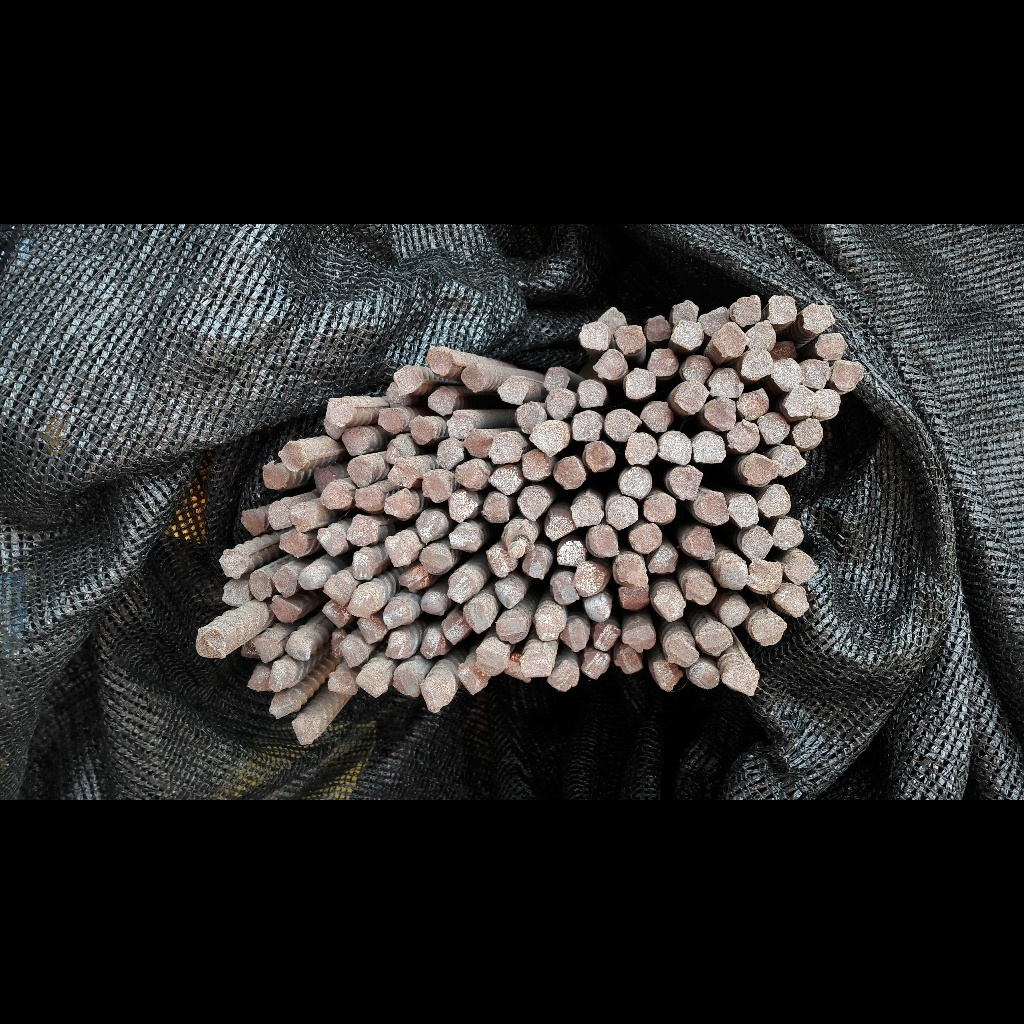dipstick: (612, 554, 650, 586), (651, 660, 689, 692), (554, 456, 587, 492), (752, 610, 786, 644), (692, 432, 727, 465), (530, 422, 566, 454), (194, 627, 228, 660), (675, 381, 708, 415), (693, 493, 728, 525), (728, 493, 760, 528), (669, 465, 700, 501), (625, 432, 658, 465), (605, 408, 637, 442), (463, 597, 493, 633), (653, 587, 685, 620), (583, 441, 616, 473), (714, 322, 747, 354), (742, 456, 776, 487), (622, 369, 658, 398), (478, 637, 505, 675), (737, 388, 769, 420), (758, 412, 790, 444), (774, 445, 806, 477), (748, 561, 780, 593), (831, 358, 862, 391), (704, 399, 737, 430), (659, 432, 692, 463), (684, 527, 715, 560), (576, 562, 606, 596), (569, 499, 603, 529), (725, 667, 759, 697), (617, 467, 652, 496), (800, 303, 835, 332), (697, 626, 733, 654), (421, 469, 452, 501), (684, 573, 715, 605), (623, 622, 656, 652), (665, 635, 698, 665), (643, 494, 676, 524), (741, 530, 774, 560), (593, 349, 627, 378), (709, 369, 744, 397), (728, 422, 759, 453), (760, 485, 791, 516), (550, 571, 579, 604), (490, 433, 520, 464), (589, 525, 619, 556), (607, 498, 637, 529), (774, 519, 804, 550), (482, 493, 511, 525), (786, 387, 815, 419), (421, 676, 449, 709), (579, 323, 612, 351), (393, 664, 419, 699), (433, 439, 463, 469), (641, 402, 671, 432), (785, 554, 815, 584), (648, 348, 679, 377), (732, 295, 761, 326), (689, 662, 720, 691), (383, 533, 411, 565), (420, 545, 452, 573), (680, 353, 712, 381), (488, 467, 521, 494), (416, 511, 446, 540), (324, 572, 353, 602), (494, 577, 523, 607), (549, 662, 579, 691), (615, 644, 644, 674), (514, 403, 544, 432), (801, 358, 830, 388), (746, 321, 776, 350), (774, 359, 803, 389), (516, 487, 547, 515), (358, 665, 386, 696), (619, 585, 650, 613), (521, 450, 549, 481), (673, 321, 704, 349), (742, 351, 773, 379), (792, 419, 823, 447), (449, 489, 476, 521), (424, 346, 453, 375), (261, 462, 290, 491), (347, 516, 376, 545), (572, 411, 601, 440), (699, 306, 728, 335), (768, 295, 797, 324), (450, 523, 480, 551), (253, 634, 283, 662), (383, 492, 414, 519), (535, 608, 562, 639), (442, 612, 467, 645), (496, 376, 525, 404), (315, 525, 344, 553), (484, 546, 512, 575), (522, 650, 551, 678), (555, 540, 584, 568), (719, 559, 746, 589), (454, 462, 485, 488), (269, 596, 300, 622), (629, 525, 660, 551), (783, 585, 809, 616), (218, 550, 246, 578), (386, 629, 414, 657), (496, 616, 524, 644), (545, 390, 573, 418), (321, 482, 350, 509), (522, 549, 549, 578), (816, 333, 845, 360), (720, 600, 749, 627), (278, 532, 308, 558), (219, 578, 249, 604), (615, 326, 645, 352), (273, 566, 297, 598), (563, 618, 587, 650), (341, 426, 368, 454), (464, 430, 491, 458), (545, 514, 572, 542), (584, 594, 612, 621), (577, 380, 605, 407), (346, 456, 372, 485), (247, 571, 272, 601), (399, 566, 429, 591), (325, 400, 356, 424), (428, 387, 455, 414), (447, 411, 474, 438), (280, 442, 307, 469), (394, 365, 420, 393), (388, 461, 416, 487), (356, 616, 384, 642), (329, 669, 355, 697), (377, 409, 410, 431), (351, 550, 374, 581), (421, 626, 444, 657), (285, 635, 312, 661), (383, 603, 411, 628), (353, 484, 377, 513), (585, 652, 609, 681), (505, 529, 528, 559), (645, 315, 671, 341), (543, 366, 570, 391), (651, 548, 676, 575), (240, 508, 268, 532), (446, 575, 470, 603), (247, 667, 271, 695), (291, 503, 314, 532), (322, 601, 348, 626), (293, 718, 319, 743), (815, 391, 839, 418), (409, 416, 432, 444), (297, 569, 323, 593), (596, 623, 620, 649), (349, 592, 374, 616), (340, 639, 365, 663), (458, 665, 480, 692), (269, 695, 297, 716), (461, 366, 484, 391), (422, 591, 444, 617), (672, 301, 698, 323), (270, 663, 290, 691), (387, 437, 410, 461), (269, 503, 289, 530), (506, 656, 526, 683), (603, 306, 626, 329), (386, 382, 407, 407), (772, 338, 797, 358), (322, 416, 343, 439), (312, 468, 332, 491), (240, 640, 259, 662), (330, 631, 344, 657)
